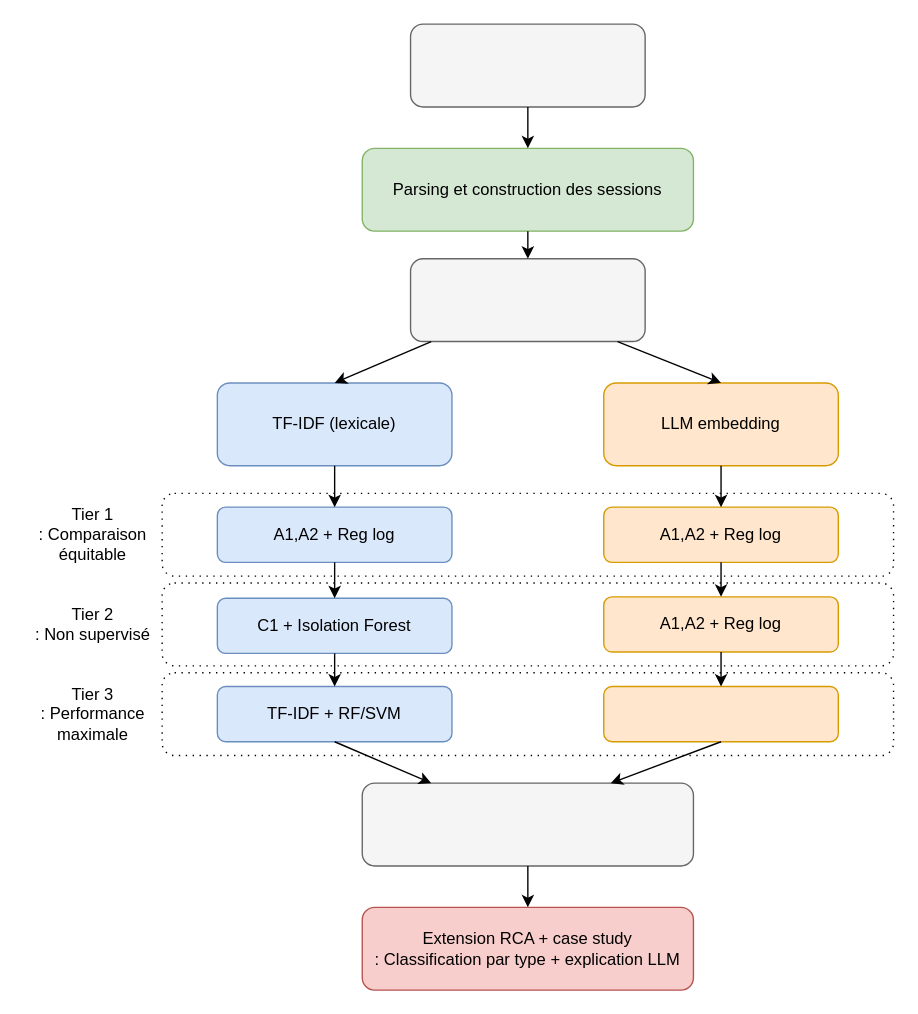
This 918x1014 diagram has some shape labels left out. Here are the shapes that lost their labels. From the top down, the centre of each, then its label:
At point (527, 65): "HDFS.log (11,2M lignes)".
At point (527, 299): "Train / Test split (80/20)".
At point (720, 713): "LLM + RF/SVM".
At point (527, 824): "évaluation comparative".
